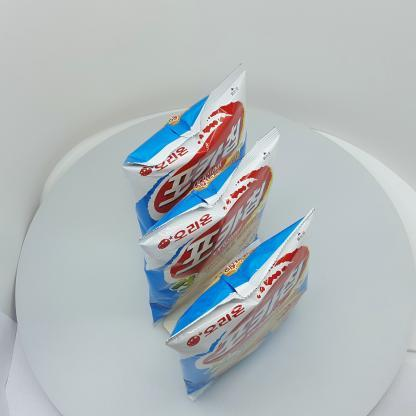Plastic Packaging: (112, 53, 276, 296)
